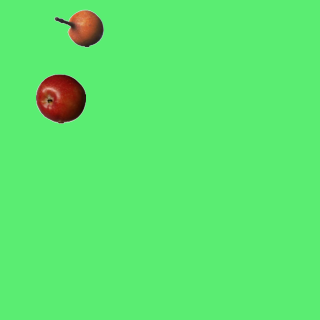Apple Braeburn: (35, 73, 85, 123)
Granadilla: (53, 3, 103, 53)
